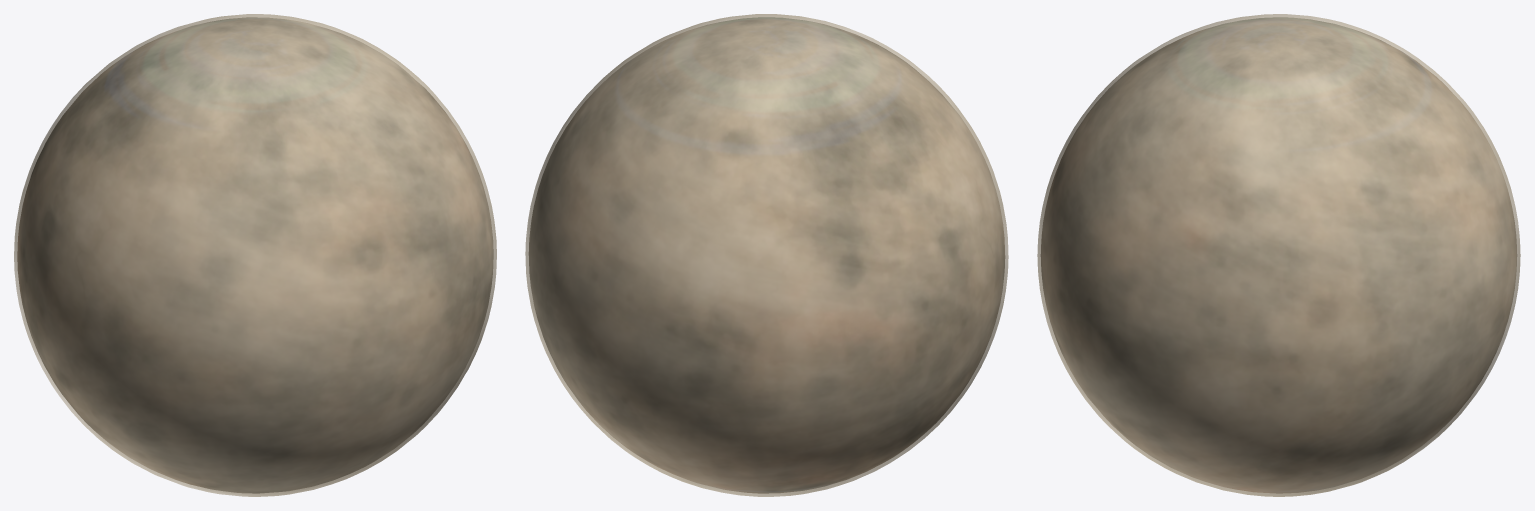
Rendered from kepler_10_c.glb.
3 views of the same model, side by side, from view 1: azimuth 30°, elevation 25°; view 2: azimuth 150°, elevation 25°; view 3: azimuth 270°, elevation 25° (orthographic).
Parts seen in each view (by area): view 1: Nubes_Mat.1_0, Esfera_Mat_0; view 2: Nubes_Mat.1_0, Esfera_Mat_0; view 3: Nubes_Mat.1_0, Esfera_Mat_0.
Part boxes in pixels (x1,y1,x2,y2): Nubes_Mat.1_0: [14, 14, 496, 496]; Esfera_Mat_0: [17, 17, 493, 493]; Nubes_Mat.1_0: [525, 14, 1008, 496]; Esfera_Mat_0: [528, 17, 1005, 493]; Nubes_Mat.1_0: [1037, 14, 1520, 496]; Esfera_Mat_0: [1040, 17, 1517, 493].
Size of the model in its own units: 2028 by 2028 by 2028.
Materials: 2 (2 with a texture image).
